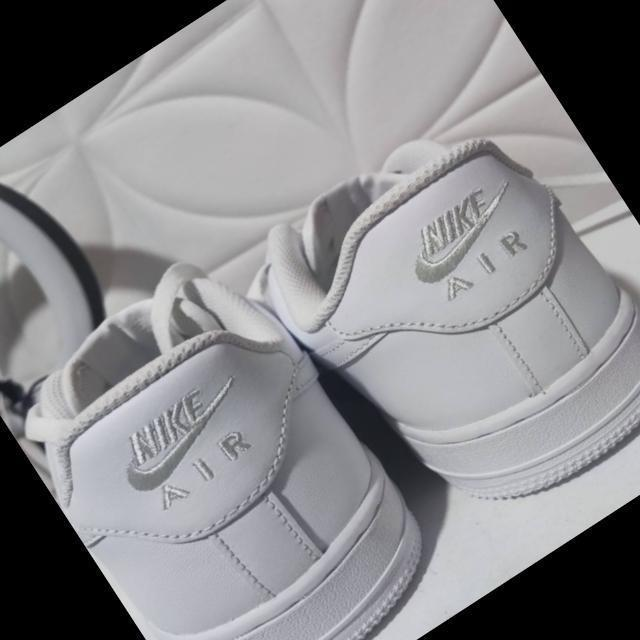nike original air force: (208, 56, 640, 574), (0, 213, 486, 640)
